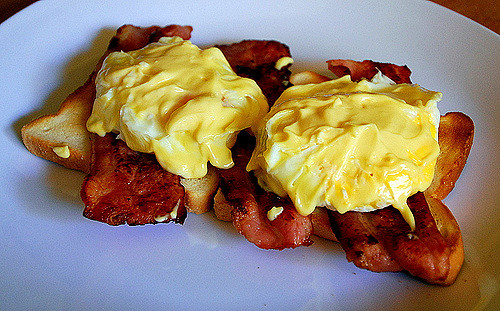slice of bread: (30, 17, 275, 228), (268, 62, 485, 294)
